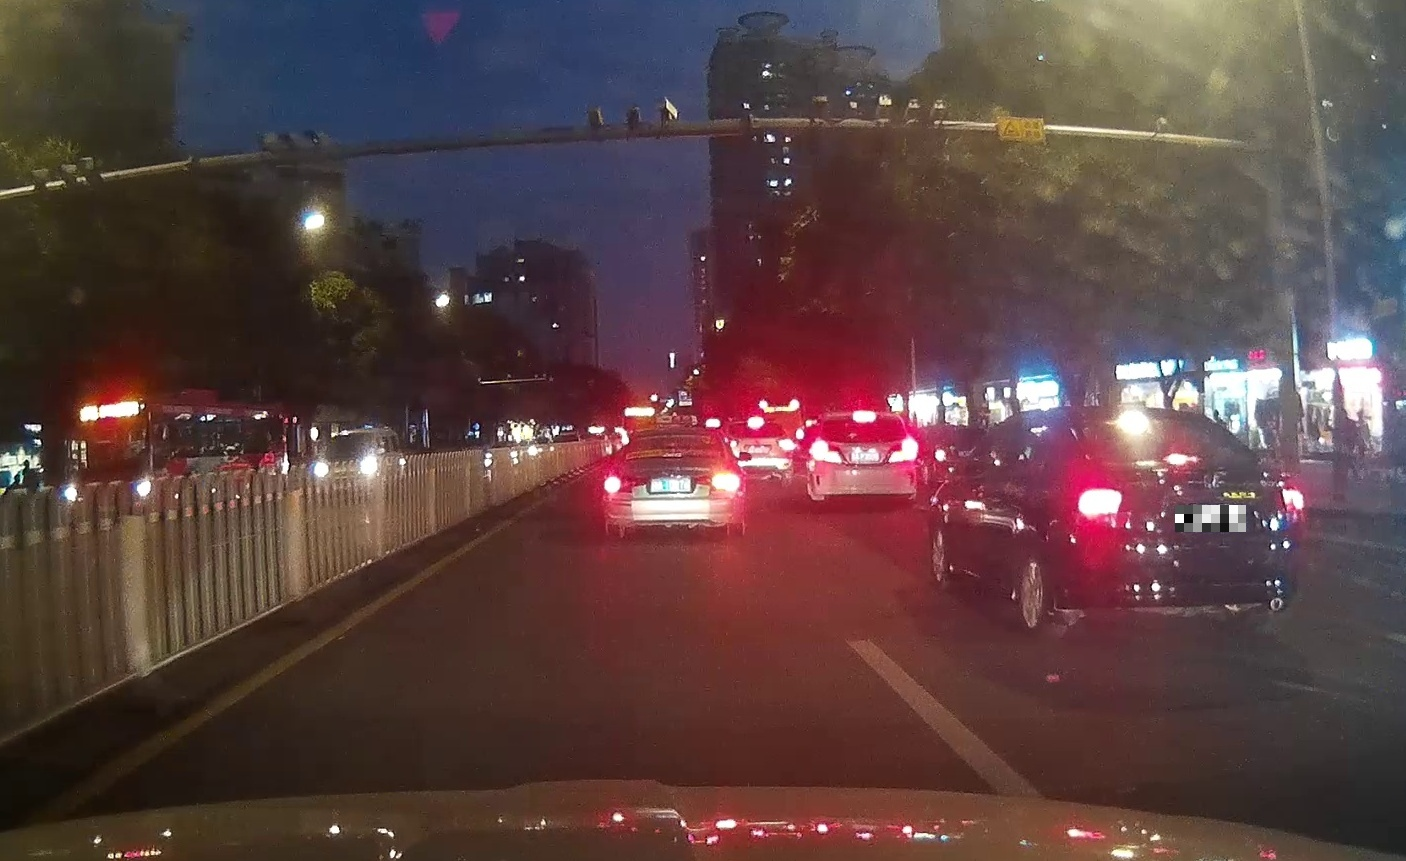L_light: (1076, 488, 1121, 518), (602, 475, 645, 494), (809, 440, 842, 465)
R_light: (695, 472, 742, 491), (888, 438, 919, 463), (1279, 489, 1304, 512)
T_light: (1162, 454, 1205, 465), (852, 411, 875, 422), (664, 434, 686, 438)
night-brake: (1067, 405, 1305, 638), (808, 410, 919, 514)
night-right: (602, 426, 744, 539)
plate_1: (1175, 505, 1246, 532)
